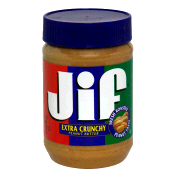grozi_108: (42, 7, 133, 168)
